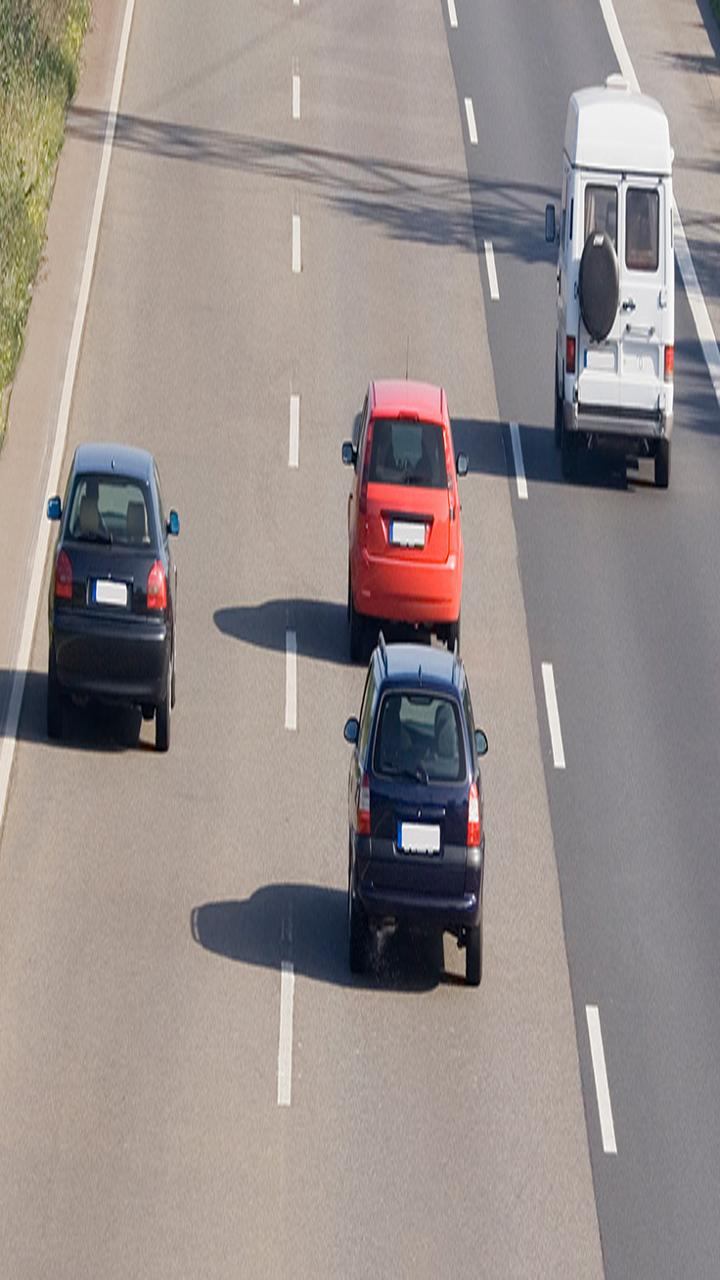vehicle: (531, 64, 695, 497), (338, 640, 494, 993), (44, 441, 200, 765), (332, 373, 471, 663)
